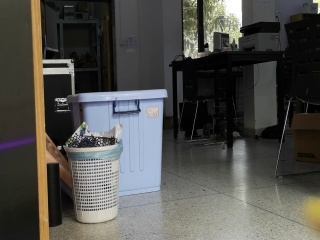room: (9, 3, 305, 240)
